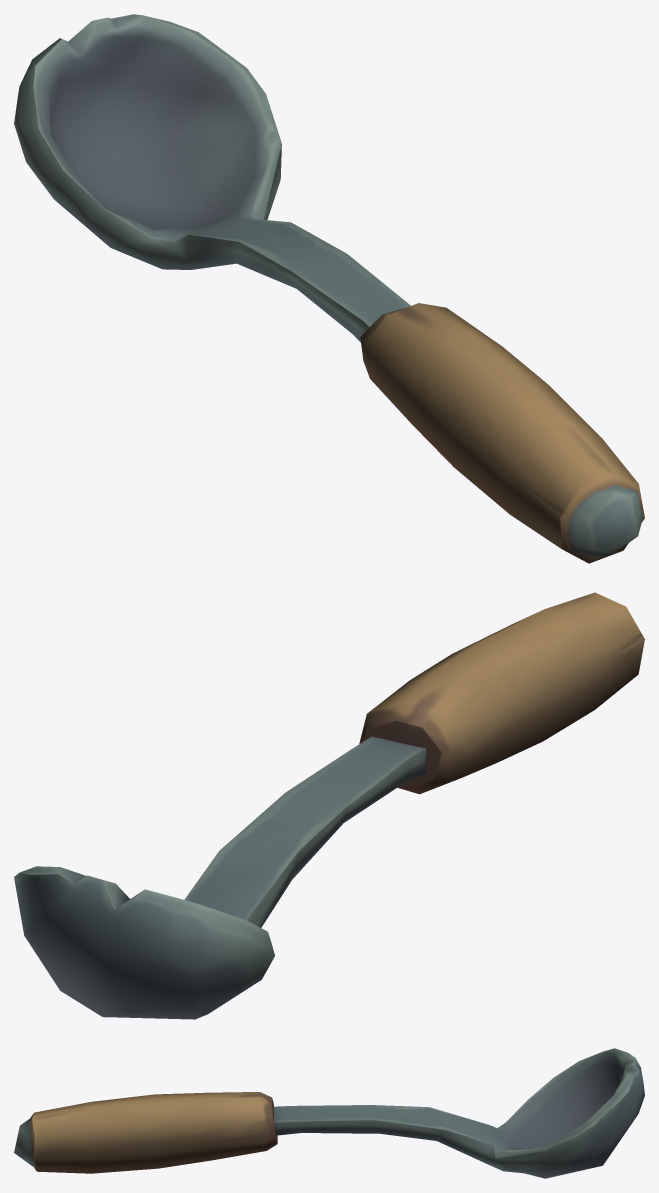
File: SM_FW01_CampProp_Ladle_01.fbx
3 views of the same model, one above another, from view 1: azimuth 30°, elevation 25°; view 2: azimuth 150°, elevation 25°; view 3: azimuth 270°, elevation 25° (orthographic). The views are drawn at different scales.
Parts seen in each view (by area): view 1: SM_FW01_CampProp_Ladle_01_LOD0; view 2: SM_FW01_CampProp_Ladle_01_LOD0; view 3: SM_FW01_CampProp_Ladle_01_LOD0.
Boxes of the visible parts, box(x1,y1,x2,y2) form: SM_FW01_CampProp_Ladle_01_LOD0: box(14, 14, 644, 563); SM_FW01_CampProp_Ladle_01_LOD0: box(14, 592, 644, 1019); SM_FW01_CampProp_Ladle_01_LOD0: box(14, 1048, 644, 1178).
Size of what is drawn, in the model's own units: 0.247 by 0.1902 by 0.972.
